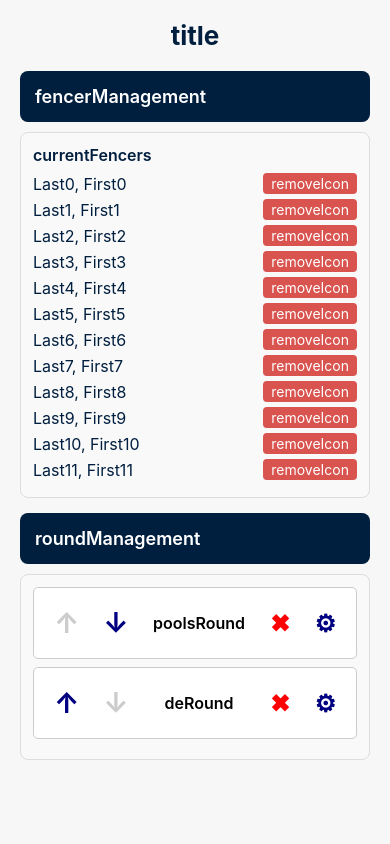
EventSettings › calculates and formats pool configurations correctly
This screenshot has width=390, height=844.
Click the text "roundManagement" at (118, 538), box [35,528,200,549]
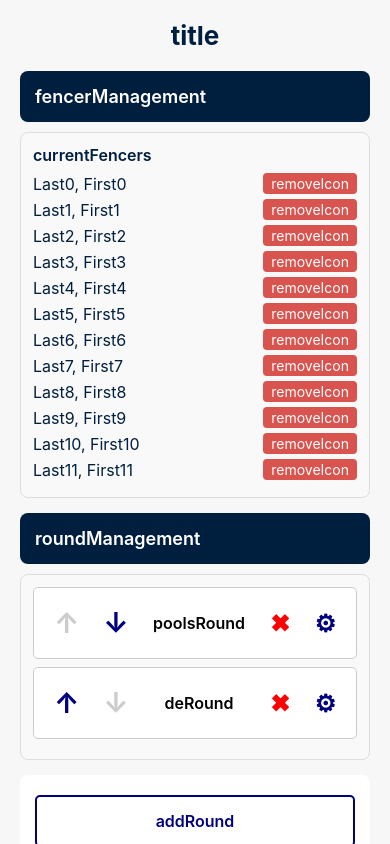
Click the text "addRound" at (195, 821), box [156,811,234,831]
(page scrolled)
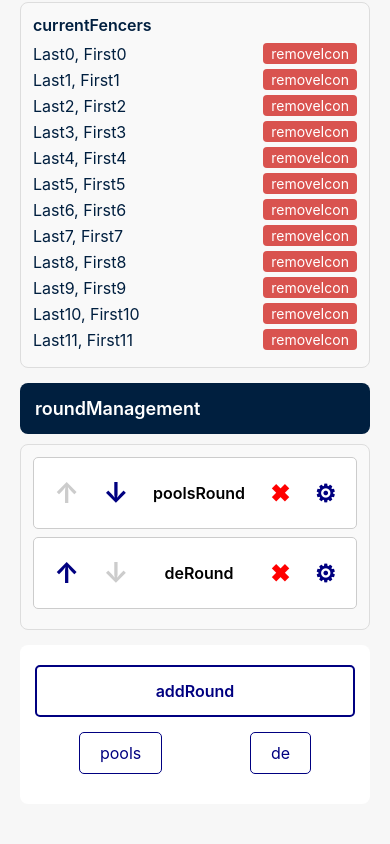
Click the text "pools" at (121, 753), box [100,743,141,763]
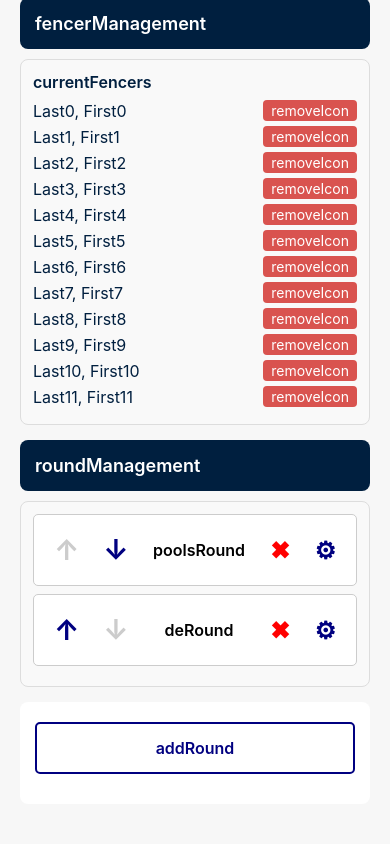
Click the text "⚙" next to "poolsRound" at (325, 550), box [314,536,336,564]
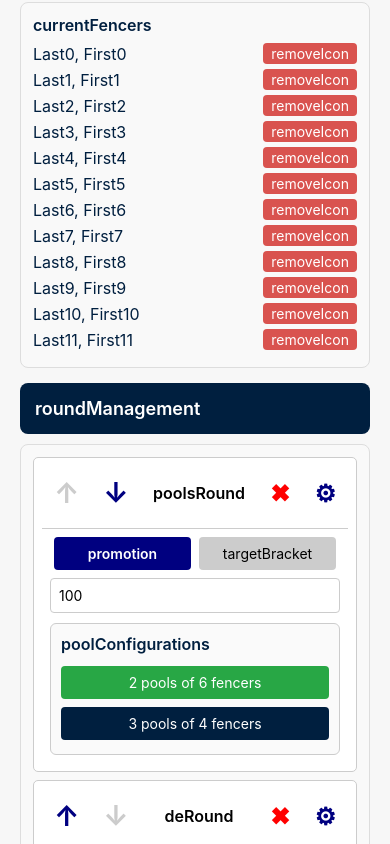
Now the text "poolConfigurations" is shown, box [61,634,210,654]
